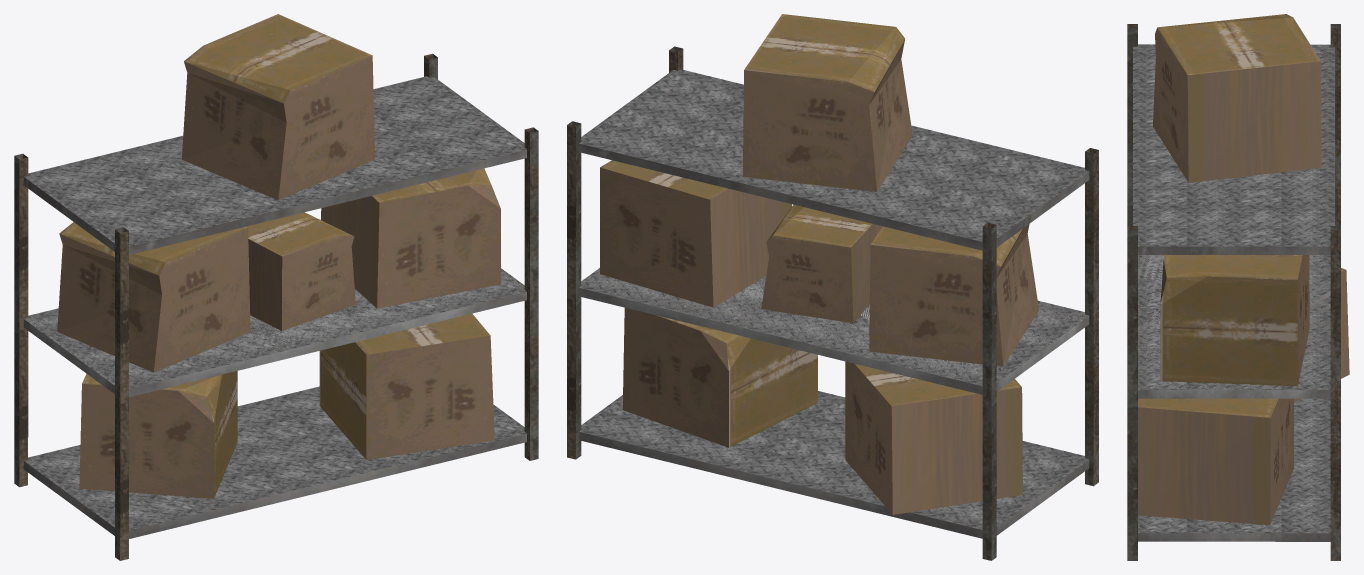
The model's file is cj_df_unit.obj.
The picture shows the model from 3 angles, left to right: view 1: azimuth 30°, elevation 25°; view 2: azimuth 150°, elevation 25°; view 3: azimuth 270°, elevation 25°; orthographic projection.
Visible parts, largest first — view 1: CJ_DF_UNIT; view 2: CJ_DF_UNIT; view 3: CJ_DF_UNIT.
Part boxes in pixels (<box>): CJ_DF_UNIT: <box>14,14,538,560</box>; CJ_DF_UNIT: <box>567,14,1098,560</box>; CJ_DF_UNIT: <box>1127,14,1349,560</box>.
Size of the model in its own units: 5.17 by 4.89 by 2.36.
Materials: 4 (4 with a texture image).
